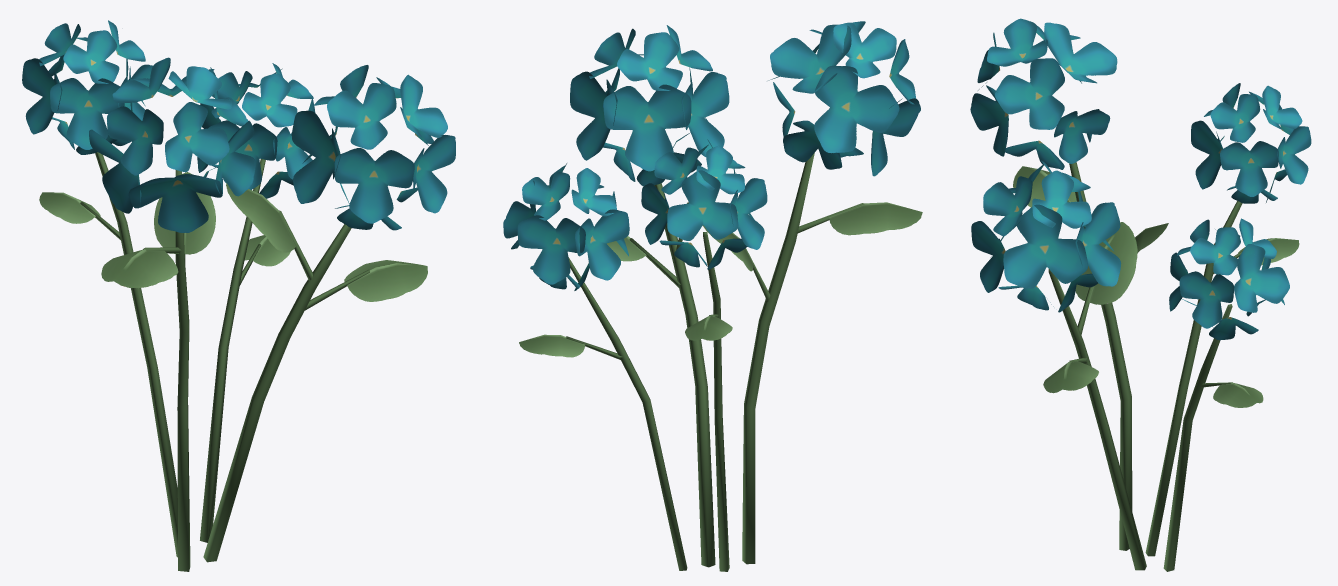
File: flowers-1.glb
3 views of the same model, side by side, from view 1: azimuth 30°, elevation 25°; view 2: azimuth 150°, elevation 25°; view 3: azimuth 270°, elevation 25° (orthographic). The views are drawn at different scales.
Parts seen in each view (by area): view 1: Flower_1_Clump; view 2: Flower_1_Clump; view 3: Flower_1_Clump.
Boxes of the visible parts, x1,y1,x2,y2 form: Flower_1_Clump: [22, 20, 455, 571]; Flower_1_Clump: [503, 21, 922, 571]; Flower_1_Clump: [970, 18, 1311, 571].
Bounding box in the file's own units: 0.4711 × 0.6713 × 0.4352.
Materials: 1 (1 with a texture image).
